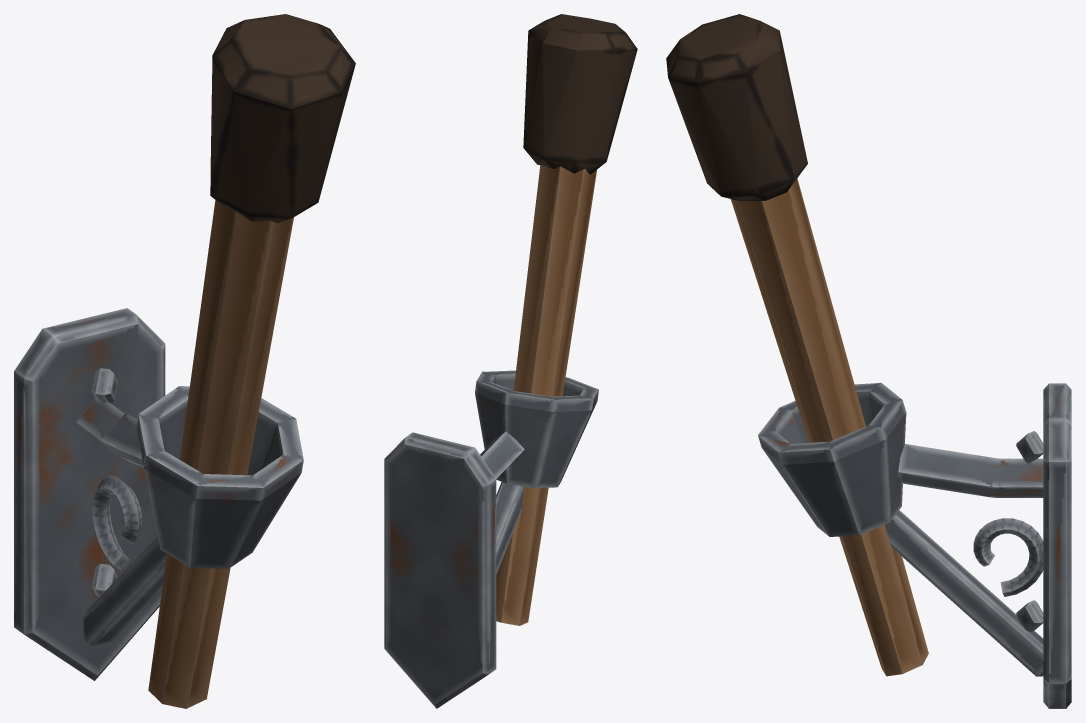
Rendered from torch_bracket_unreal.glb.
3 views of the same model, side by side, from view 1: azimuth 30°, elevation 25°; view 2: azimuth 150°, elevation 25°; view 3: azimuth 270°, elevation 25° (orthographic). The views are drawn at different scales.
Parts seen in each view (by area): view 1: torch_bracket_unreal_static; view 2: torch_bracket_unreal_static; view 3: torch_bracket_unreal_static.
Boxes of the visible parts, bbox=[...] form: torch_bracket_unreal_static: bbox=[14, 14, 355, 708]; torch_bracket_unreal_static: bbox=[384, 14, 637, 708]; torch_bracket_unreal_static: bbox=[666, 14, 1071, 708].
Size of what is drawn, in the model's own units: 0.106 by 0.5313 by 0.2867.
Materials: 3 (3 with a texture image).
